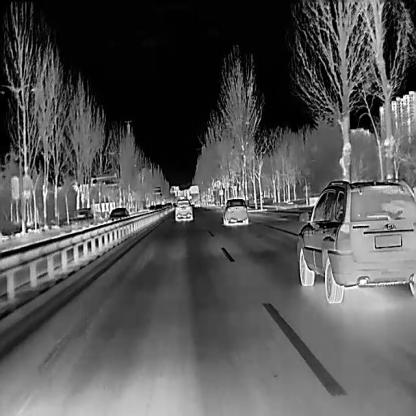car: (295, 176, 415, 304), (222, 196, 248, 225), (69, 206, 93, 231), (107, 206, 130, 230), (173, 197, 192, 220), (154, 203, 161, 212), (148, 203, 154, 211), (194, 200, 199, 206)
